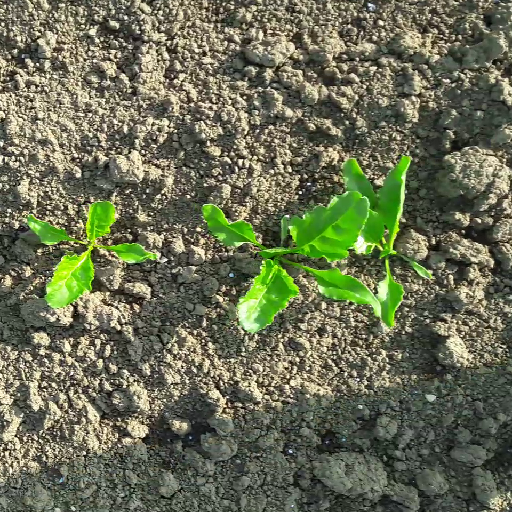sugarbeet: (190, 188, 385, 336), (333, 153, 435, 331), (20, 198, 161, 310)
